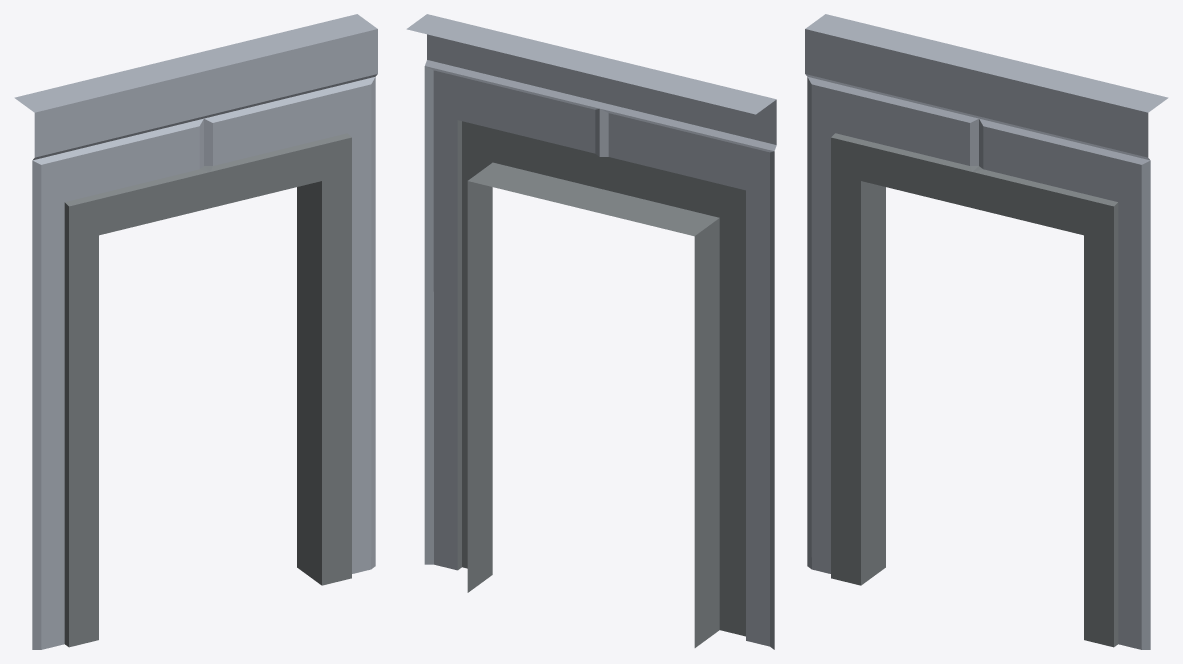
The model's file is Freezer_Door.fbx.
3 renders of one model, left to right at view 1: azimuth 30°, elevation 25°; view 2: azimuth 150°, elevation 25°; view 3: azimuth 330°, elevation 25°, orthographic.
Parts seen in each view (by area): view 1: DoorFreezer; view 2: DoorFreezer; view 3: DoorFreezer.
Part boxes in pixels (x1,y1,x2,y2): DoorFreezer: (14, 14, 377, 649); DoorFreezer: (406, 14, 776, 649); DoorFreezer: (805, 14, 1168, 649).
Size of the model in its own units: 200 by 300 by 25.
